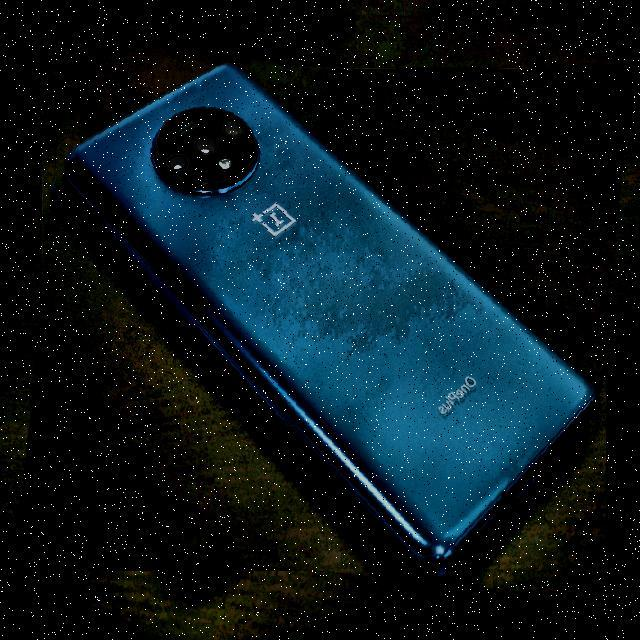Phone: (29, 53, 618, 586)
